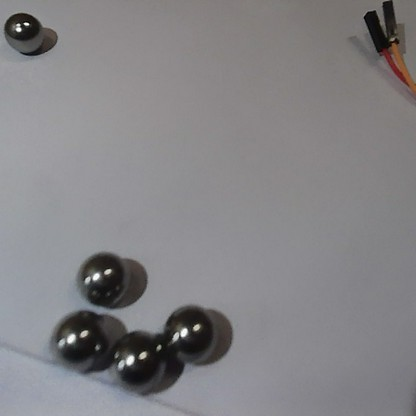ironball: (47, 304, 113, 376), (69, 249, 133, 310), (161, 305, 224, 364), (109, 328, 163, 394), (0, 11, 48, 58)
